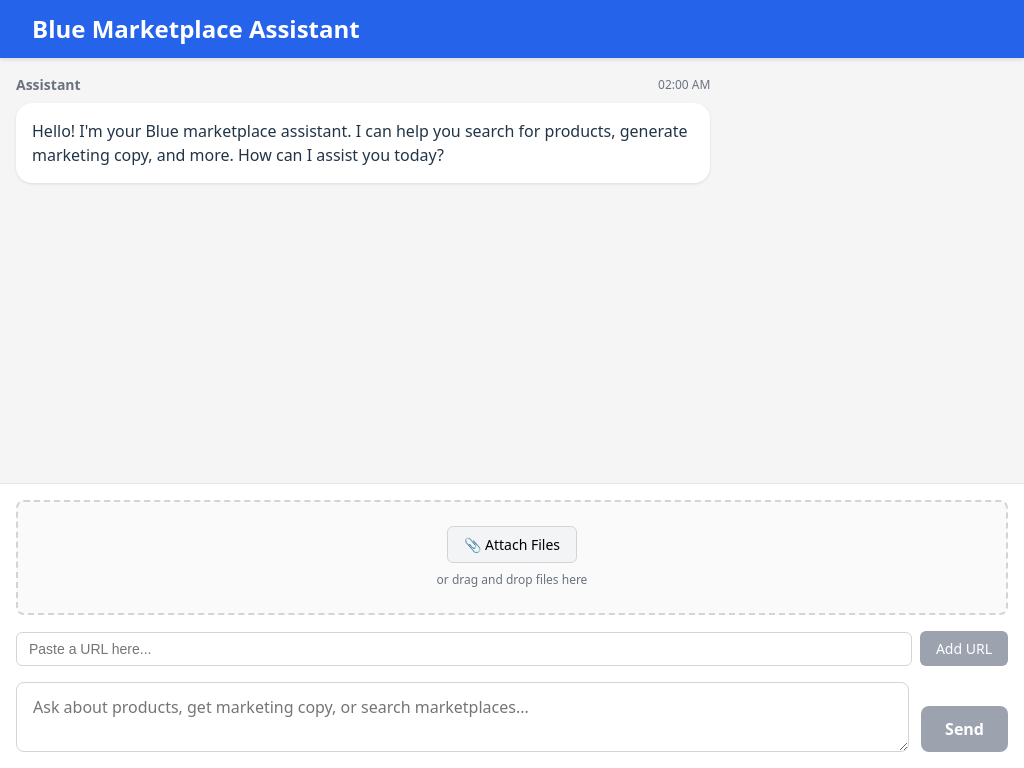
Test case: App › sends message and displays response
Type "search for laptops" into the text box named "Message input" at (463, 717), box [16, 682, 909, 752]
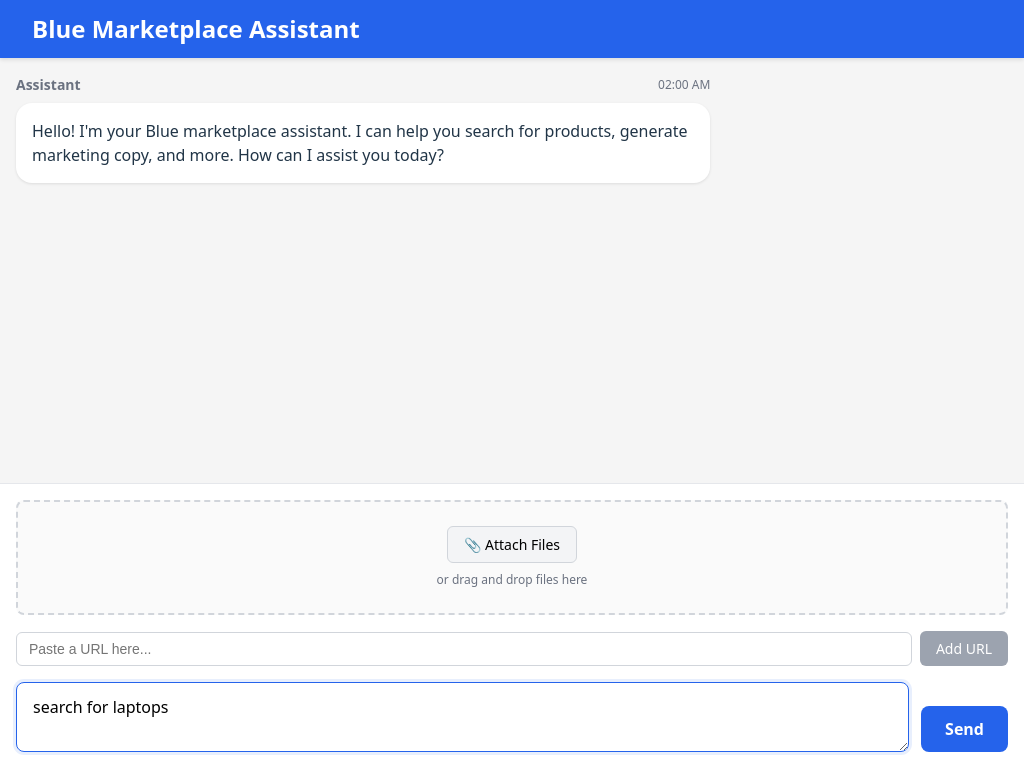
Click the button with aria-label "Send message" at (965, 729), box [921, 706, 1008, 752]
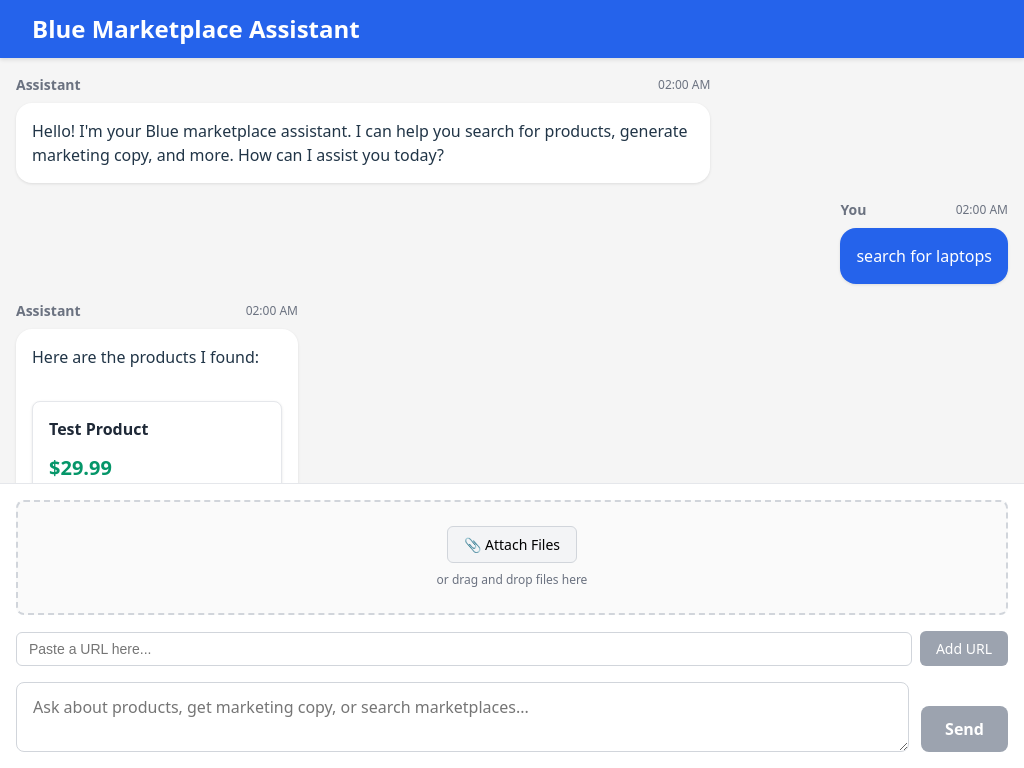
Expected: the text "search for laptops" is shown, [856, 244, 992, 268]
Expected: the text "Here are the products I found:" is shown, [32, 345, 282, 369]
Expected: the heading "Test Product" is shown, [49, 418, 148, 440]
